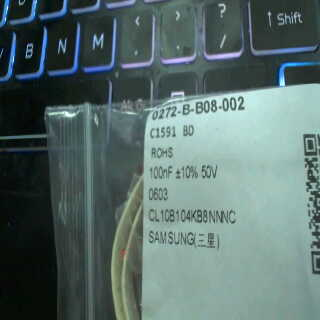100nF: (146, 160, 175, 183)
